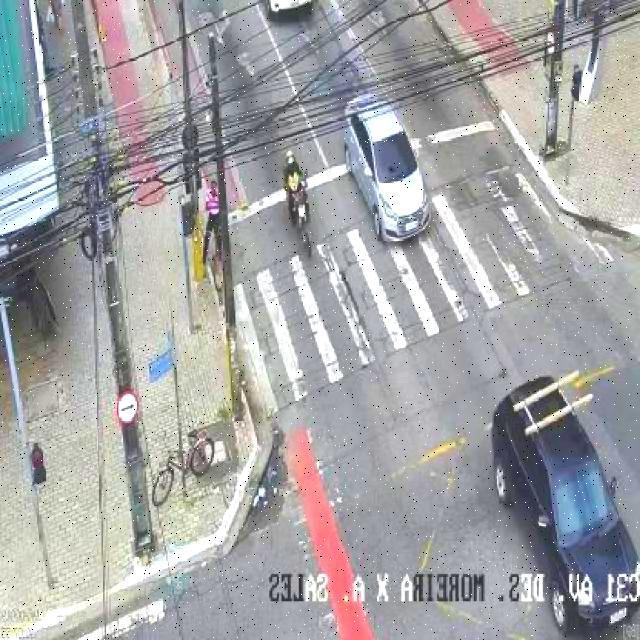Car: (478, 361, 640, 634), (327, 89, 444, 247)
Cycle: (269, 136, 324, 254)
